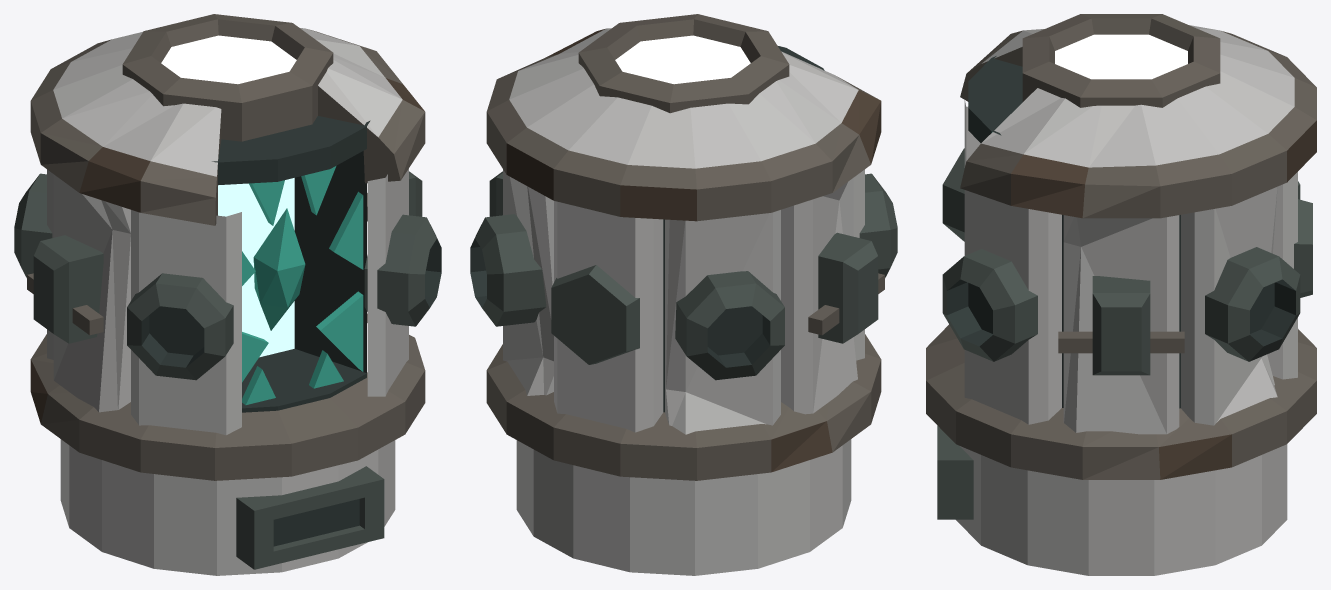
Rendered from stage3_damaged_time_core.glb.
The picture shows the model from 3 angles, left to right: view 1: azimuth 30°, elevation 25°; view 2: azimuth 150°, elevation 25°; view 3: azimuth 270°, elevation 25°; orthographic projection.
Visible parts, largest first — view 1: core-shell, core-energy; view 2: core-shell, core-energy; view 3: core-shell, core-energy.
Part boxes in pixels (box(x1,y1,x2,y2)): core-shell: box(14, 14, 441, 575); core-energy: box(161, 35, 296, 357); core-shell: box(470, 14, 897, 575); core-energy: box(615, 35, 750, 84); core-shell: box(926, 14, 1316, 575); core-energy: box(1055, 34, 1187, 79).
Size of the model in its own units: 0.34 by 0.4 by 0.3099.
